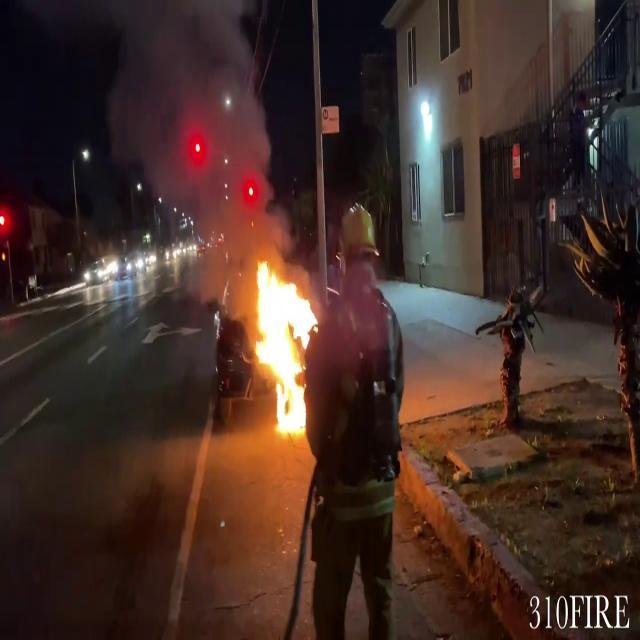Fire: (246, 256, 324, 438)
Smoke: (105, 0, 285, 267)
